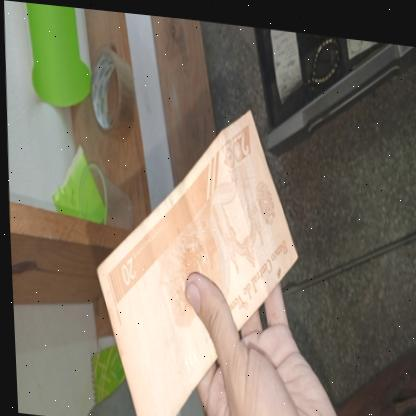twenty-back-vef: (83, 87, 305, 416)
